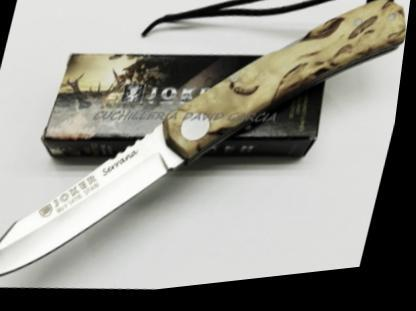knife: (0, 88, 207, 309)
